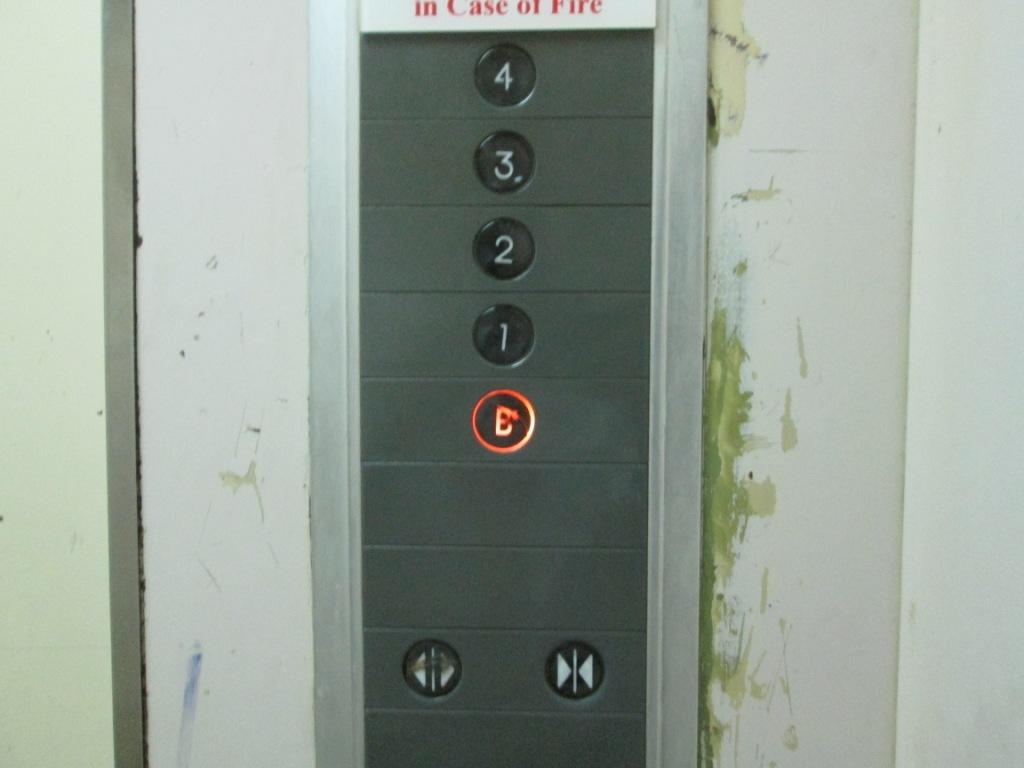1: (466, 299, 540, 372)
2: (468, 214, 540, 286)
3: (471, 124, 540, 199)
4: (470, 41, 540, 111)
B: (468, 386, 537, 458)
close: (541, 637, 608, 704)
open: (397, 634, 466, 702)
